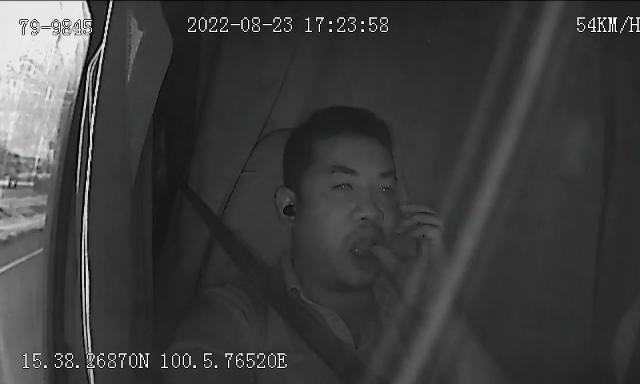SafeDriving: (272, 187, 306, 227), (328, 168, 358, 197), (371, 175, 399, 201)
Seatbelt: (174, 142, 350, 384)
